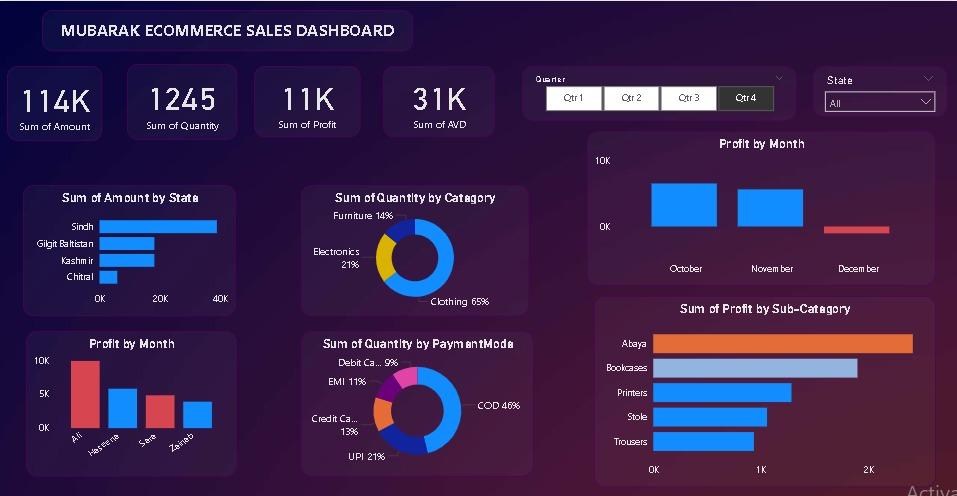

The page's visual inventory and layout, read from the dashboard file:
{"tool":"powerbi","page":{"name":"Page 1","canvas":[1280,720],"ordinal":0},"visuals":[{"type":"textbox","box":[57.1,11.7,494.8,54.5],"z":0},{"type":"columnChart","title":"Profit by Month","fields":{"Category":["Orders.Order Date.Variation.Date Hierarchy.Month"],"Y":["Sum(Details.Profit)"]},"box":[784.4,172.7,464.9,206.5],"z":1000},{"type":"barChart","fields":{"Category":["Details.Sub-Category"],"Y":["Sum(Details.Profit)"]},"box":[793.5,393.5,455.8,254.5],"z":2000},{"type":"donutChart","fields":{"Category":["Details.Category"],"Y":["Sum(Details.Quantity)"]},"box":[402.6,245.5,303.9,175.3],"z":3000},{"type":"donutChart","fields":{"Y":["Sum(Details.Quantity)"],"Category":["Details.PaymentMode"]},"box":[402.6,440.3,310.4,193.5],"z":4000},{"type":"card","fields":{"Values":["Sum(Details.Amount)"]},"box":[10.4,87,127.3,100],"z":5000},{"type":"card","fields":{"Values":["Sum(Details.Quantity)"]},"box":[170.1,84.4,146.8,101.3],"z":6000},{"type":"card","fields":{"Values":["Sum(Details.Profit)"]},"box":[340.3,87,141.6,94.8],"z":7000},{"type":"card","fields":{"Values":["Sum(Details.AVD)"]},"box":[511.7,87,149.4,94.8],"z":8000},{"type":"barChart","fields":{"Category":["Orders.State"],"Y":["Sum(Details.Amount)"]},"box":[32.5,245.5,284.4,175.3],"z":9000},{"type":"columnChart","title":"Profit by Month","fields":{"Category":["Orders.CustomerName"],"Y":["Sum(Details.Amount)"]},"box":[36.4,440.3,280.5,193.5],"z":10000},{"type":"slicer","fields":{"Values":["Orders.Order Date.Variation.Date Hierarchy.Quarter"]},"box":[697.4,87,366.2,72.7],"z":11000},{"type":"slicer","fields":{"Values":["Orders.State"]},"box":[1085.7,87,179.2,67.5],"z":12000}]}

Visuals, with their boxes on the page's 1280x720 design canvas (x1, y1, x2, y2). These are canvas units, not pixel positions in the 957x496 screenshot, which may show the page scaled, cropped or inside an application window:
textbox: (57, 12, 552, 66)
"Profit by Month" columnChart: (784, 173, 1249, 379)
barChart - Details.Sub-Category x Sum(Details.Profit): (794, 394, 1249, 648)
donutChart - Details.Category x Sum(Details.Quantity): (403, 246, 706, 421)
donutChart - Sum(Details.Quantity) x Details.PaymentMode: (403, 440, 713, 634)
card - Sum(Details.Amount): (10, 87, 138, 187)
card - Sum(Details.Quantity): (170, 84, 317, 186)
card - Sum(Details.Profit): (340, 87, 482, 182)
card - Sum(Details.AVD): (512, 87, 661, 182)
barChart - Orders.State x Sum(Details.Amount): (32, 246, 317, 421)
"Profit by Month" columnChart: (36, 440, 317, 634)
slicer - Orders.Order Date.Variation.Date Hierarchy.Quarter: (697, 87, 1064, 160)
slicer - Orders.State: (1086, 87, 1265, 154)
